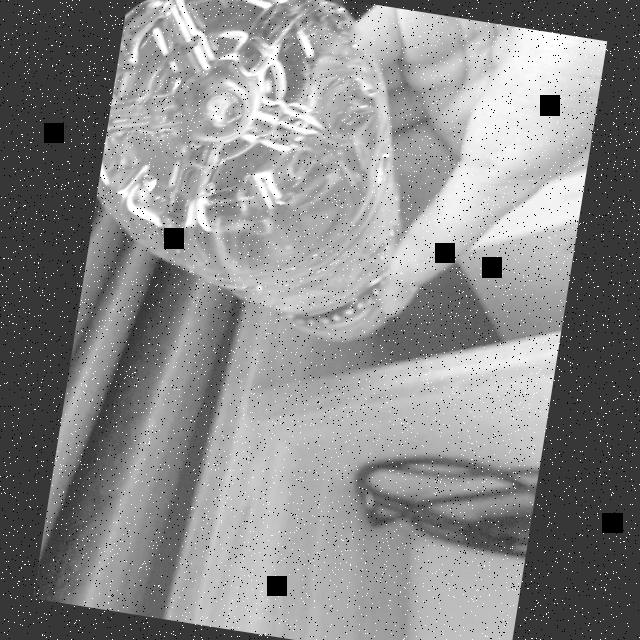plastic_bottle: (78, 0, 462, 364)
